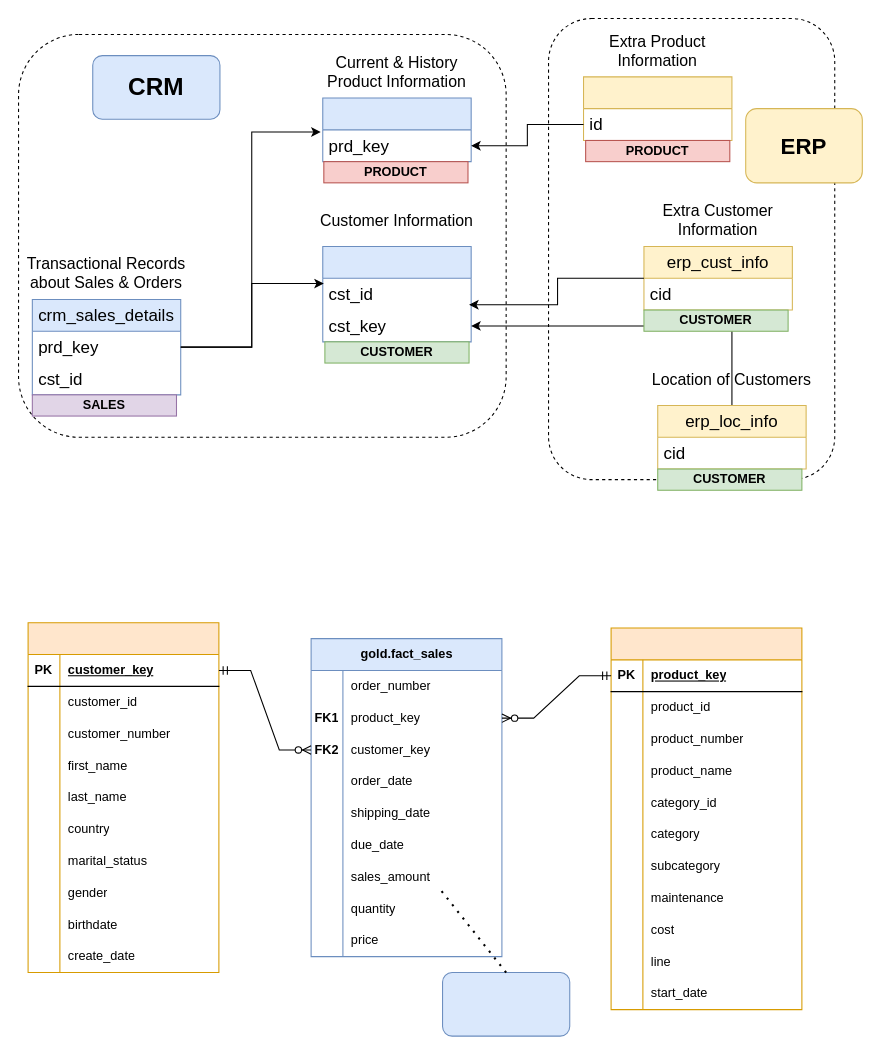
Image size: 881x1055. Some labels were removed from this diagram. The box of each missing label's shape, as (x1, y1, x2, y2) in pixels:
crm_cust_info: (322, 245, 471, 342)
crm_prd_info: (322, 97, 471, 162)
erp_prod_info: (582, 76, 732, 140)
gold.dim_customers: (27, 622, 219, 973)
gold.dim_products: (610, 627, 802, 1010)
sales_amount = quantity * price: (441, 971, 570, 1036)
